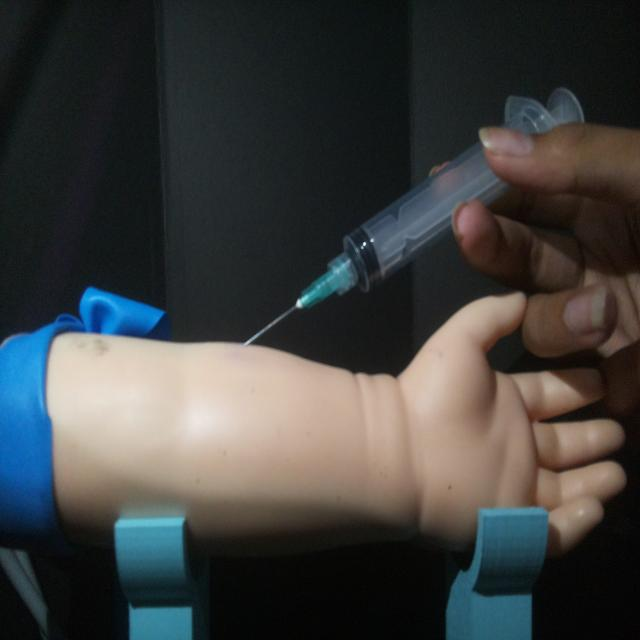30deg: (239, 77, 590, 352)
